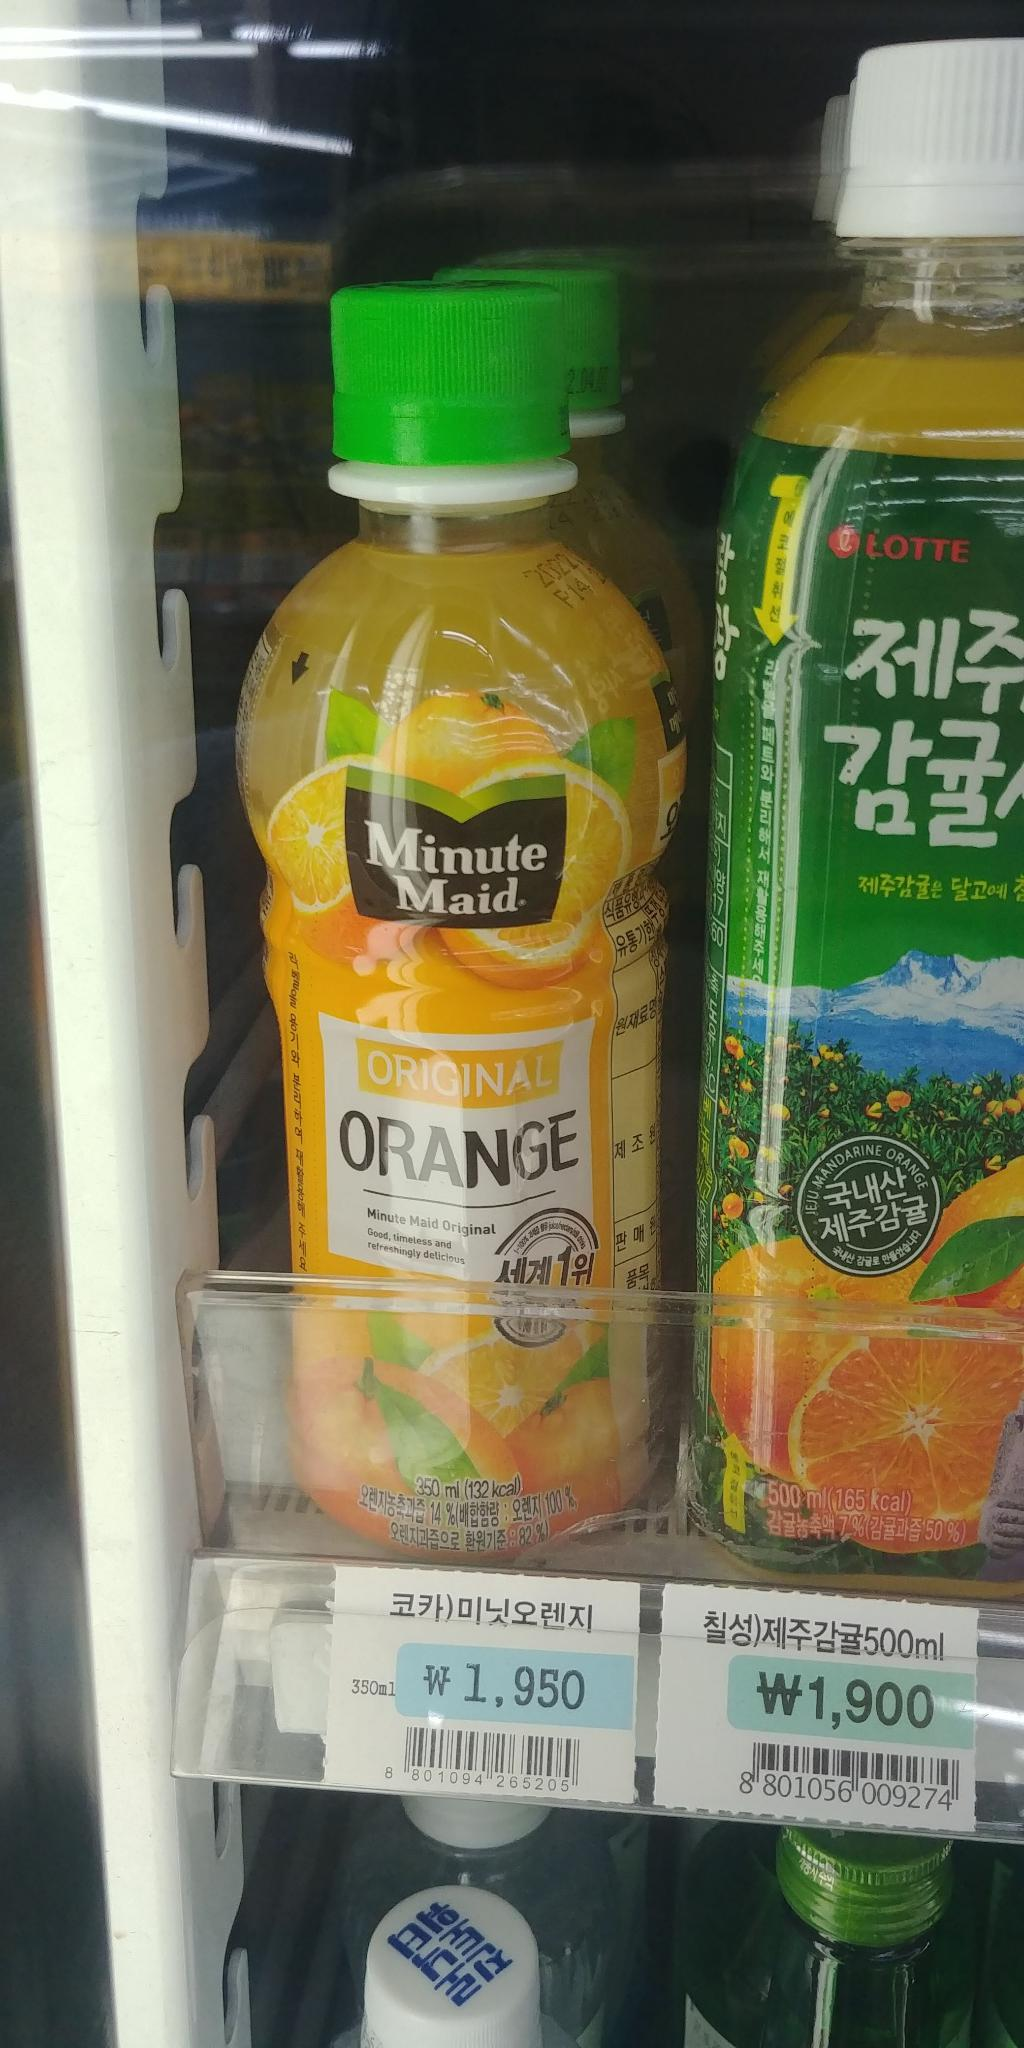minutemaid_org_orange: (242, 269, 696, 1590)
